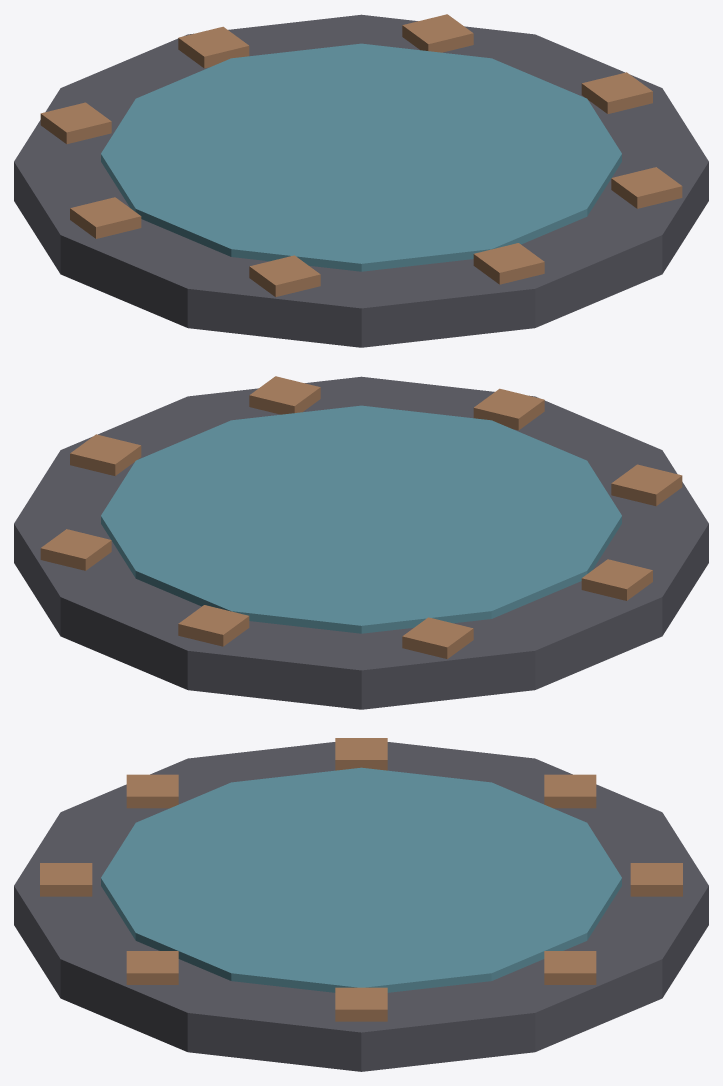
Rendered from mdl_urban_manhole_cover_001.glb.
3 views of the same model, one above another, from view 1: azimuth 30°, elevation 25°; view 2: azimuth 150°, elevation 25°; view 3: azimuth 270°, elevation 25° (orthographic).
Parts seen in each view (by area): view 1: m_petroleo, m_carbon, m_oxido; view 2: m_petroleo, m_carbon, m_oxido; view 3: m_petroleo, m_carbon, m_oxido.
Boxes of the visible parts, <box> form: m_petroleo: <box>101,43,621,271</box>; m_carbon: <box>14,14,708,347</box>; m_oxido: <box>40,14,682,296</box>; m_petroleo: <box>101,405,621,633</box>; m_carbon: <box>14,376,708,709</box>; m_oxido: <box>40,376,682,658</box>; m_petroleo: <box>101,767,621,992</box>; m_carbon: <box>14,742,708,1071</box>; m_oxido: <box>40,738,682,1021</box>.
Size of the model in its own units: 0.8 by 0.065 by 0.8.
